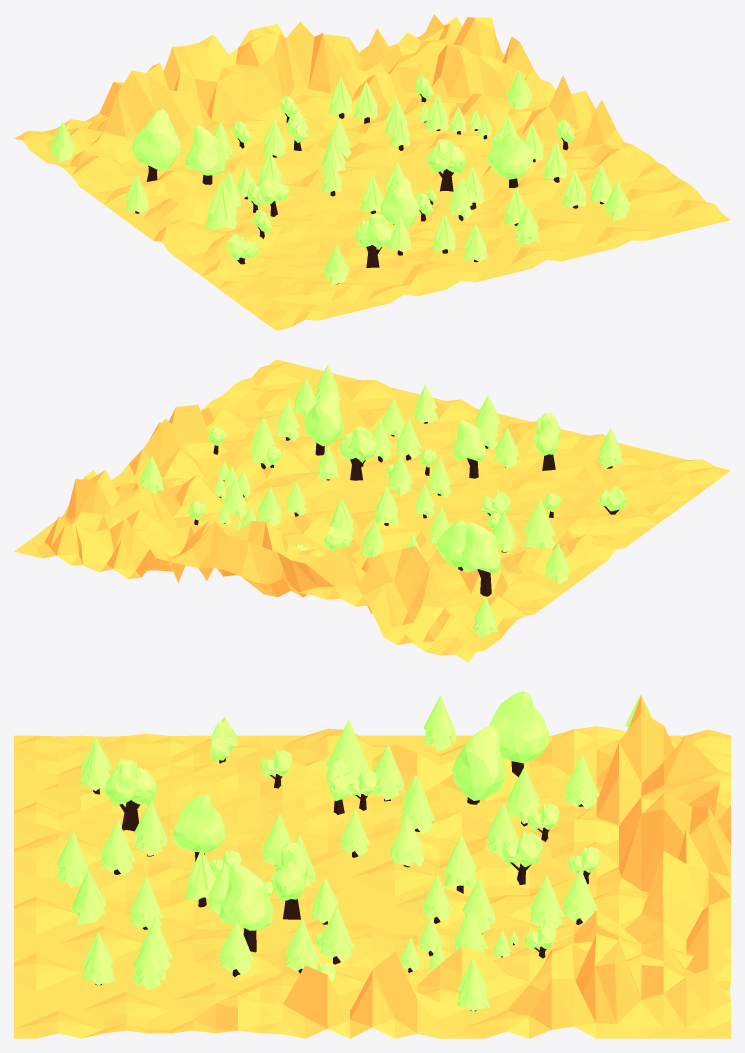
File: environment.fbx
3 views of the same model, one above another, from view 1: azimuth 30°, elevation 25°; view 2: azimuth 150°, elevation 25°; view 3: azimuth 270°, elevation 25° (orthographic). The views are drawn at different scales.
Visible parts, largest first — view 1: Plane.001, Cylinder.002, Cylinder.003, Cylinder, Cylinder.001, Icosphere.019, Icosphere.009, Cone.029, Icosphere.003, Cone.041, Cone.030, Cone.031 (+18 smaller); view 2: Plane.001, Cylinder.002, Cylinder.003, Icosphere.019, Cylinder.001, Icosphere.009, Cylinder, Cone.029, Cone.020, Cone.036, Cone.026, Cone.039 (+17 smaller); view 3: Plane.001, Cylinder.002, Cylinder, Cylinder.003, Cylinder.001, Icosphere.009, Icosphere.019, Icosphere.017, Cone.019, Cone.010, Cone.011, Cone.016 (+35 smaller).
Part boxes in pixels (bbox=[...]): Plane.001: bbox=[14, 14, 730, 330]; Cylinder.002: bbox=[132, 108, 179, 181]; Cylinder.003: bbox=[487, 131, 533, 187]; Cylinder: bbox=[185, 124, 225, 184]; Cylinder.001: bbox=[380, 177, 419, 227]; Icosphere.019: bbox=[426, 138, 466, 191]; Icosphere.009: bbox=[355, 213, 394, 267]; Cone.029: bbox=[205, 179, 237, 229]; Icosphere.003: bbox=[259, 178, 288, 216]; Cone.041: bbox=[515, 205, 540, 245]; Cone.030: bbox=[605, 180, 630, 220]; Cone.031: bbox=[50, 121, 75, 162]; Plane.001: bbox=[14, 359, 730, 662]; Cylinder.002: bbox=[461, 522, 500, 596]; Cylinder.003: bbox=[304, 390, 343, 455]; Icosphere.019: bbox=[339, 426, 377, 480]; Cylinder.001: bbox=[453, 420, 486, 478]; Icosphere.009: bbox=[533, 413, 560, 470]; Cylinder: bbox=[436, 520, 467, 570]; Cone.029: bbox=[523, 498, 555, 549]; Cone.020: bbox=[396, 418, 421, 460]; Cone.036: bbox=[494, 427, 518, 468]; Cone.026: bbox=[598, 427, 623, 468]; Cone.039: bbox=[545, 543, 569, 584]; Plane.001: bbox=[14, 695, 730, 1038]; Cylinder.002: bbox=[489, 691, 548, 776]; Cylinder: bbox=[452, 725, 505, 804]; Cylinder.003: bbox=[219, 862, 272, 952]; Cylinder.001: bbox=[172, 794, 225, 861]; Icosphere.009: bbox=[103, 759, 157, 831]; Icosphere.019: bbox=[270, 842, 308, 919]; Icosphere.017: bbox=[501, 831, 543, 885]; Cone.019: bbox=[444, 834, 476, 893]; Cone.010: bbox=[219, 919, 253, 976]; Cone.011: bbox=[319, 906, 354, 964]; Cone.016: bbox=[100, 819, 135, 875].
Bounding box in the file's own units: 18.01 × 3.22 × 17.96.
